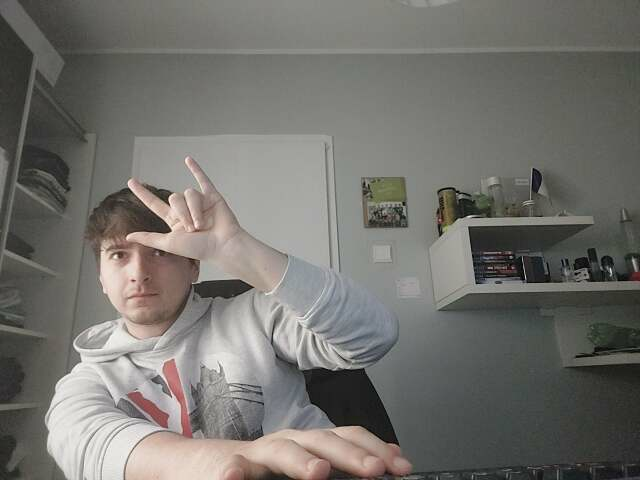love_you: (127, 156, 240, 258)
